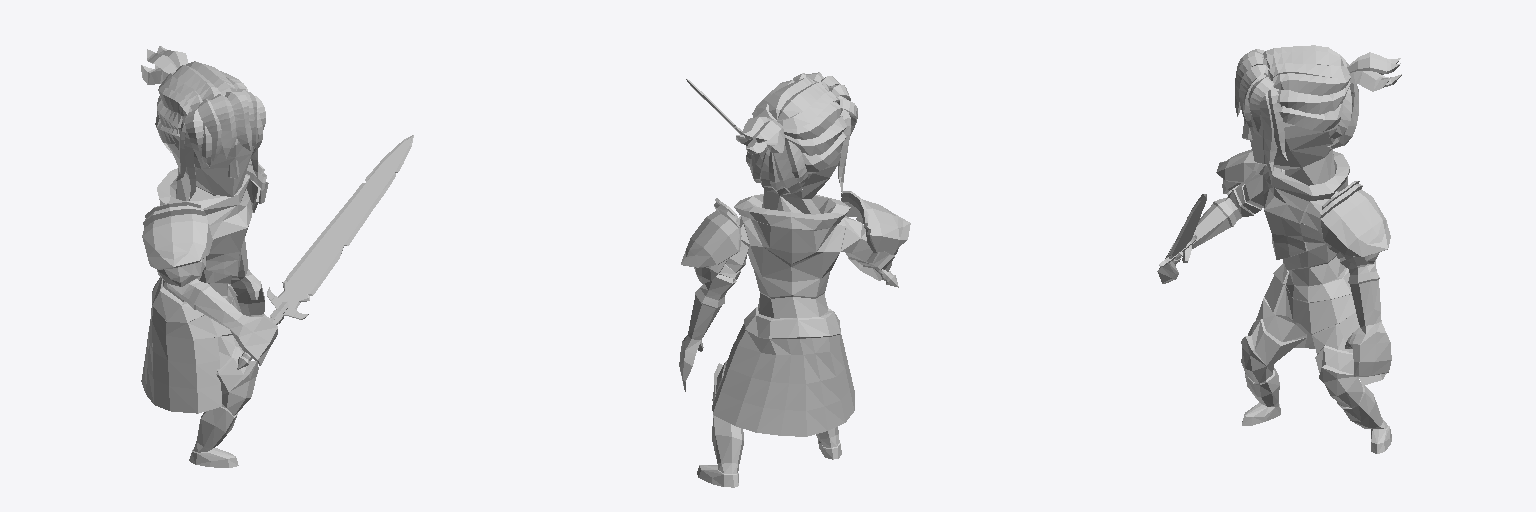
The picture shows the model from 3 angles: view 1: azimuth 30°, elevation 25°; view 2: azimuth 150°, elevation 25°; view 3: azimuth 270°, elevation 25°; orthographic projection.
Visible parts, largest first — view 1: Warrior.002__ncl1_29.005, Face__ncl1_29.002, Warrior_Sword_Cylinder.001, Shoulder.R__ncl1_29.001, Shoulder.L__ncl1_29.000; view 2: Warrior.002__ncl1_29.005, Face__ncl1_29.002, Shoulder.L__ncl1_29.000, Shoulder.R__ncl1_29.001; view 3: Warrior.002__ncl1_29.005, Face__ncl1_29.002, Shoulder.L__ncl1_29.000, Shoulder.R__ncl1_29.001, Warrior_Sword_Cylinder.001.
Boxes of the visible parts, <box> form: Warrior.002__ncl1_29.005: <box>141,116,277,467</box>; Face__ncl1_29.002: <box>141,46,265,200</box>; Warrior_Sword_Cylinder.001: <box>237,135,413,369</box>; Shoulder.R__ncl1_29.001: <box>142,201,212,286</box>; Shoulder.L__ncl1_29.000: <box>246,159,268,212</box>; Warrior.002__ncl1_29.005: <box>679,150,894,487</box>; Face__ncl1_29.002: <box>736,72,857,195</box>; Shoulder.L__ncl1_29.000: <box>681,198,741,283</box>; Shoulder.R__ncl1_29.001: <box>841,191,910,254</box>; Warrior.002__ncl1_29.005: <box>1157,112,1391,453</box>; Face__ncl1_29.002: <box>1235,45,1401,175</box>; Shoulder.L__ncl1_29.000: <box>1320,181,1390,265</box>; Shoulder.R__ncl1_29.001: <box>1216,149,1264,194</box>; Warrior_Sword_Cylinder.001: <box>1159,194,1206,266</box>.
Size of the model in its own units: 1.87 by 2.79 by 1.65.